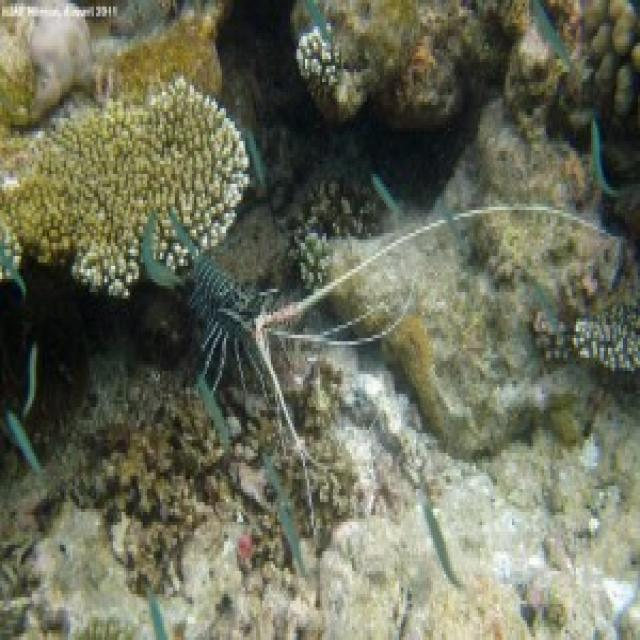lobsters: (115, 198, 428, 534)
